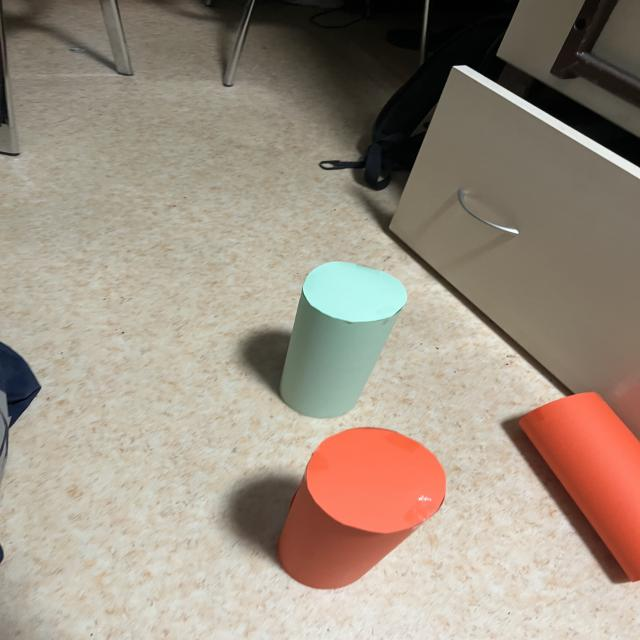meta: (279, 262, 407, 418)
przeszkoda: (278, 428, 446, 589), (520, 393, 640, 581)
